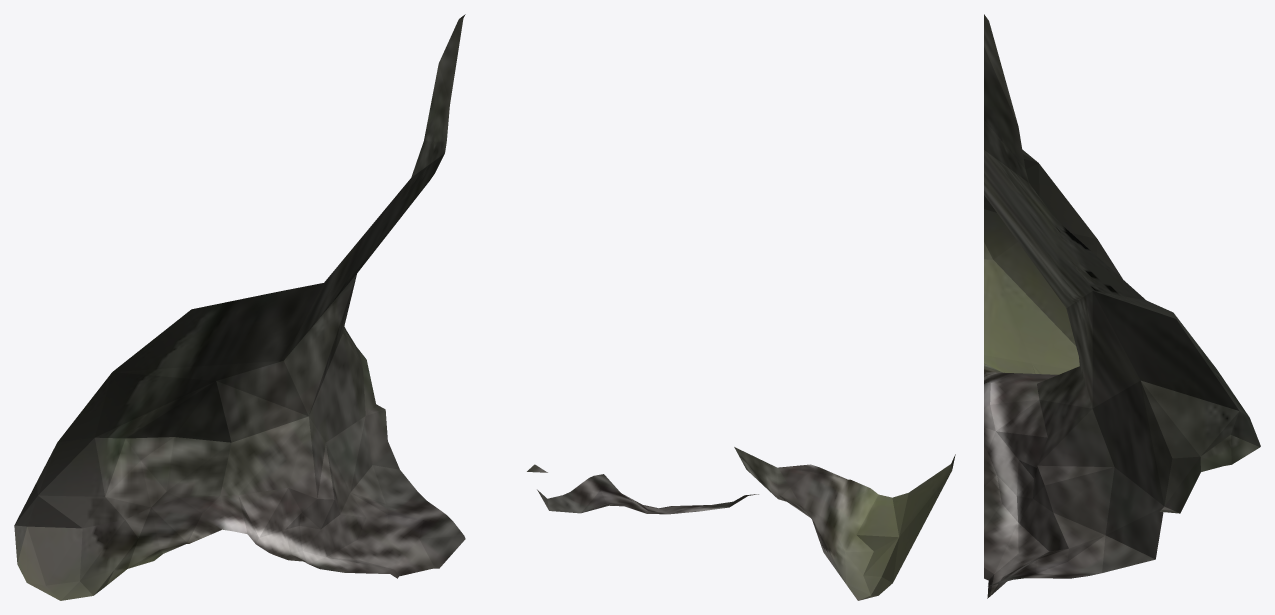
3 views of the same model, side by side, from view 1: azimuth 30°, elevation 25°; view 2: azimuth 150°, elevation 25°; view 3: azimuth 270°, elevation 25° (orthographic). The views are drawn at different scales.
Size of the model in its own units: 2.94 by 3.85 by 1.61.
1 material, 1 textured.
